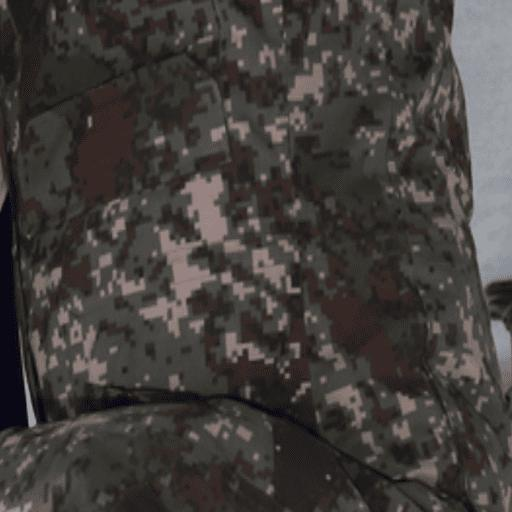korea army: (1, 0, 509, 510)
